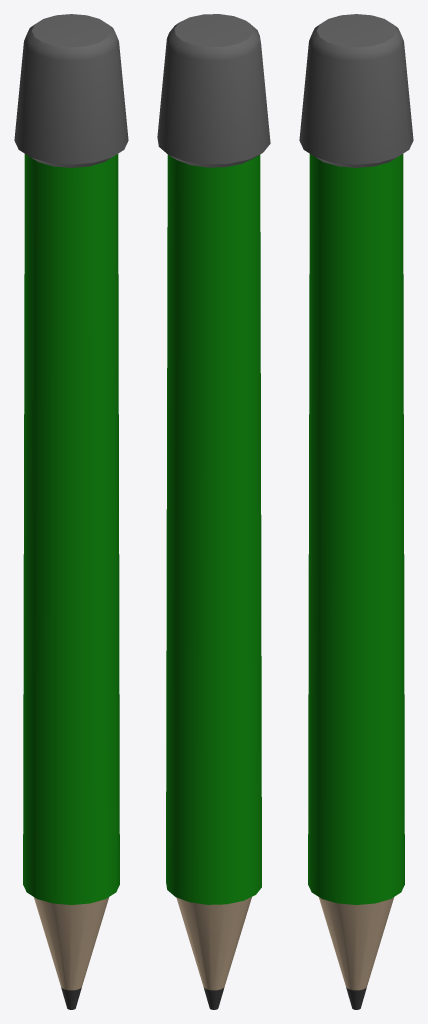
The model's file is Pen05.fbx.
The picture shows the model from 3 angles, left to right: view 1: azimuth 90°, elevation 25°; view 2: azimuth 150°, elevation 25°; view 3: azimuth 270°, elevation 25°; orthographic projection.
Parts seen in each view (by area): view 1: Pen05; view 2: Pen05; view 3: Pen05.
Part boxes in pixels (left/top/right/bottom): Pen05: left=14, top=14, right=128, bottom=1009; Pen05: left=157, top=14, right=270, bottom=1009; Pen05: left=299, top=14, right=413, bottom=1009.
Size of the model in its own units: 0.0125 by 0.0125 by 0.1186.
